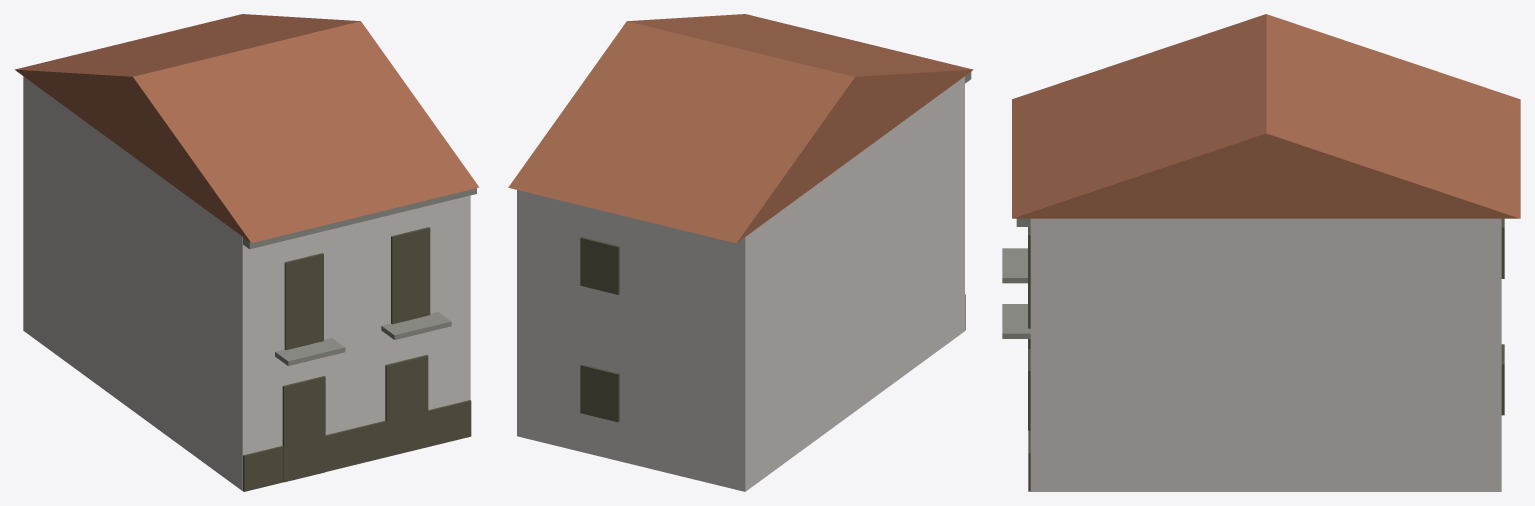
File: SM_casa_pueblo_v0_LOD1.fbx
The picture shows the model from 3 angles, left to right: view 1: azimuth 30°, elevation 25°; view 2: azimuth 150°, elevation 25°; view 3: azimuth 270°, elevation 25°; orthographic projection. The views are drawn at different scales.
Visible parts, largest first — view 1: SM_casa_pueblo_v0_LOD1; view 2: SM_casa_pueblo_v0_LOD1; view 3: SM_casa_pueblo_v0_LOD1.
Part boxes in pixels (bbox=[...]): SM_casa_pueblo_v0_LOD1: bbox=[15, 14, 479, 491]; SM_casa_pueblo_v0_LOD1: bbox=[508, 14, 973, 491]; SM_casa_pueblo_v0_LOD1: bbox=[1002, 14, 1520, 491].
Bounding box in the file's own units: 6 × 8.4 × 11.
